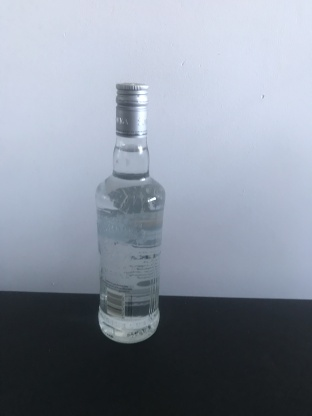nakretka: (114, 81, 149, 140)
